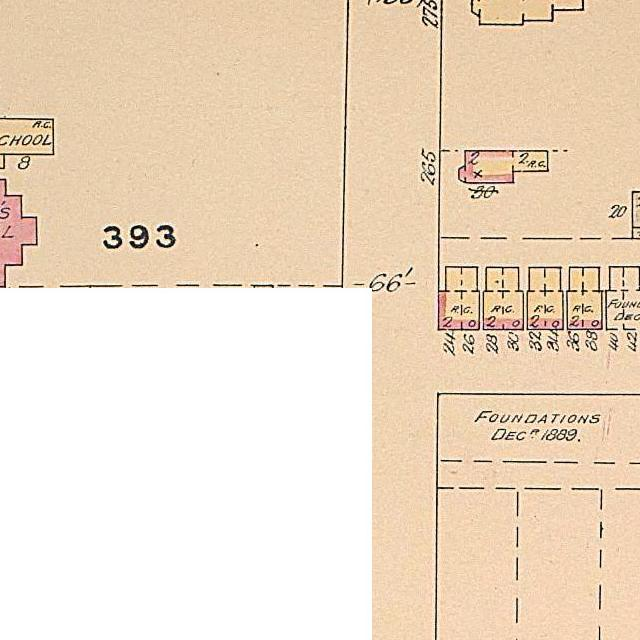building-footprints: (459, 151, 548, 183), (472, 0, 583, 25), (0, 118, 54, 168), (438, 267, 480, 330), (484, 267, 523, 330), (527, 267, 563, 329), (567, 267, 602, 330), (632, 192, 640, 227), (632, 228, 640, 239)
